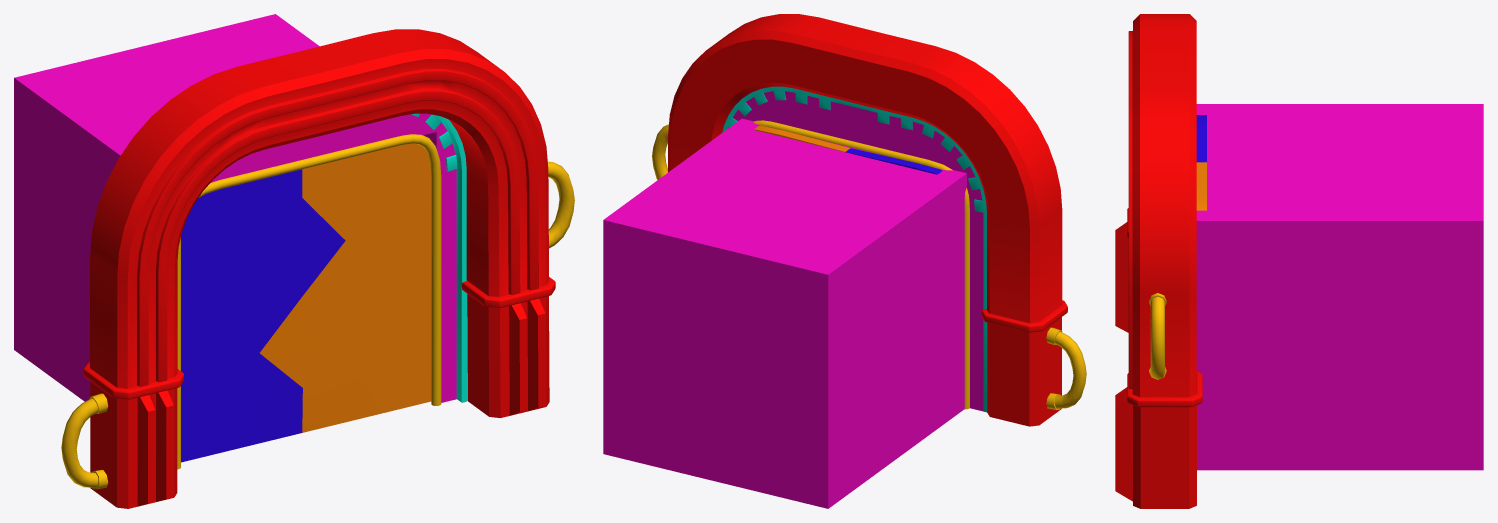
File: puertaprincipal_2.fbx
3 renders of one model, left to right at view 1: azimuth 30°, elevation 25°; view 2: azimuth 150°, elevation 25°; view 3: azimuth 270°, elevation 25°, orthographic. The views are drawn at different scales.
Visible parts, largest first — view 1: Object003, Object002, Box004; view 2: Object003, Box004, Object002; view 3: Object003, Object002, Box004.
Boxes of the visible parts, box(x1,y1,x2,y2) form: Object003: box(14, 14, 574, 508); Object002: box(260, 143, 431, 432); Box004: box(181, 169, 345, 462); Object003: box(603, 14, 1086, 508); Box004: box(845, 148, 942, 174); Object002: box(753, 125, 850, 151); Object003: box(1115, 14, 1483, 508); Object002: box(1196, 162, 1206, 210); Box004: box(1196, 115, 1206, 162).
Size of the model in its own units: 117 by 84.97 by 80.23.
